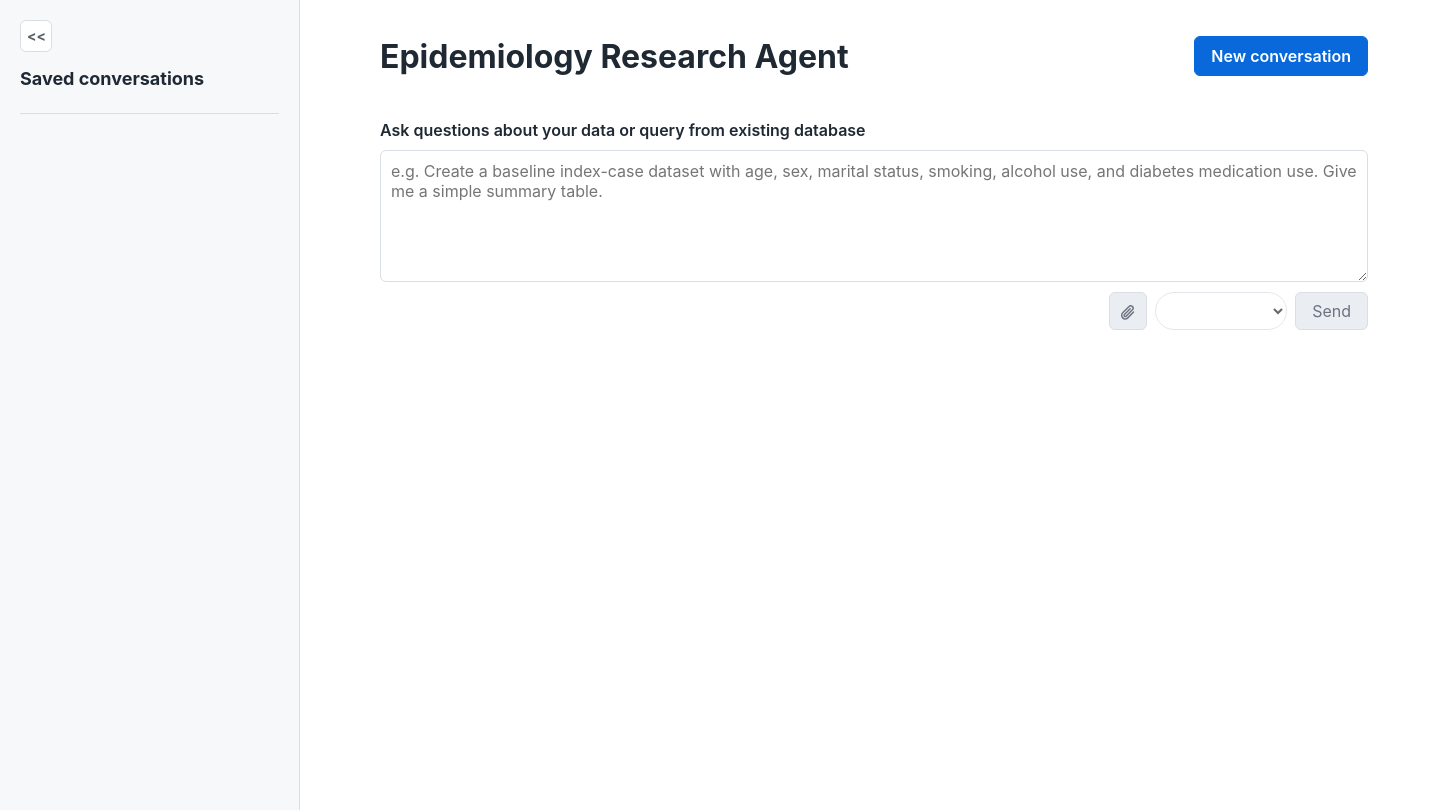
Test: App › blocks the composer for an unprojectable interrupt
Replace the text in the text box named "Ask a question about your dataset!" with "Create a cohort": (874, 216) x1=380 y1=150 x2=1368 y2=282
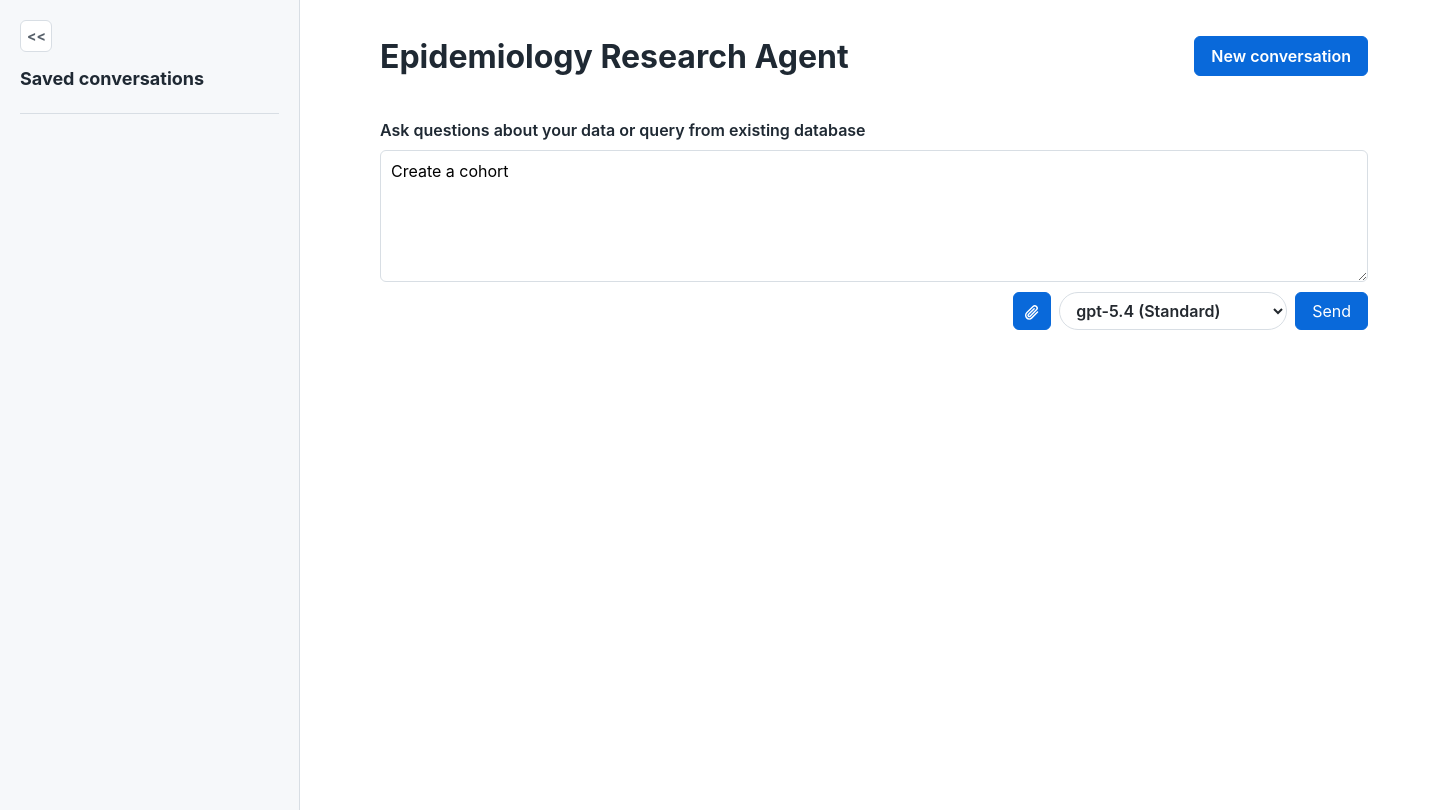
Click the button "Send": (1332, 311) x1=1295 y1=292 x2=1368 y2=330
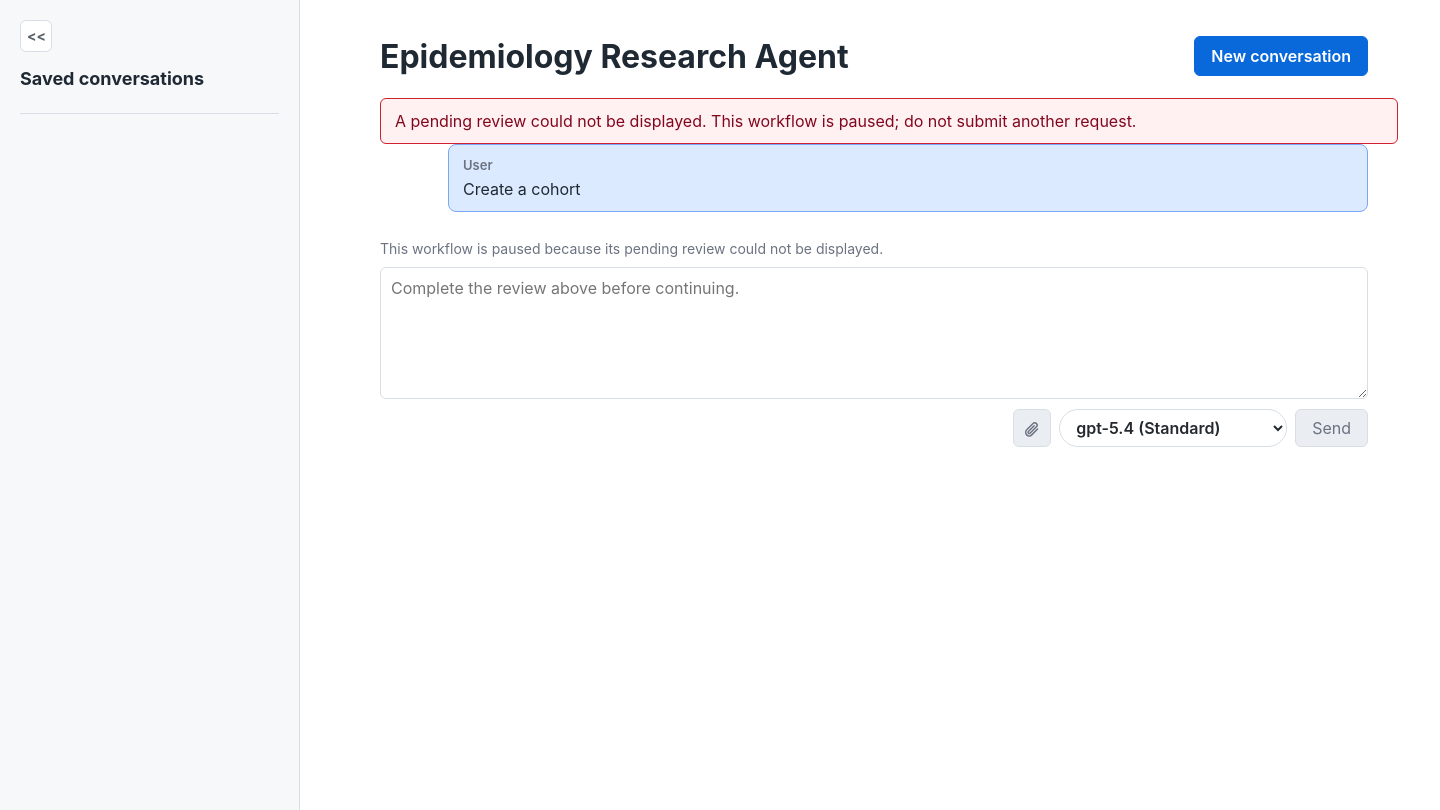
Now the message shows "A pending review could not be displayed", box x1=395 y1=111 x2=1136 y2=131
Now the text box named "Ask a question about your dataset!" is disabled, box x1=380 y1=267 x2=1368 y2=399
Now the button "Send" is disabled, box x1=1295 y1=409 x2=1368 y2=447
